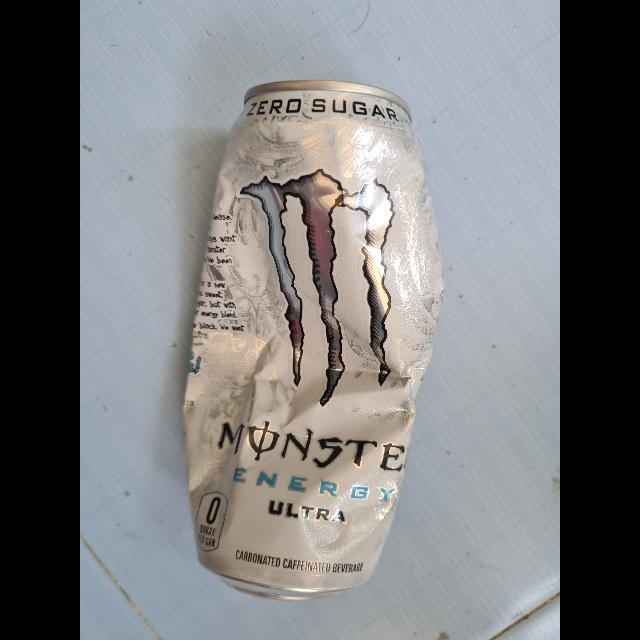trash: (182, 79, 446, 601)
